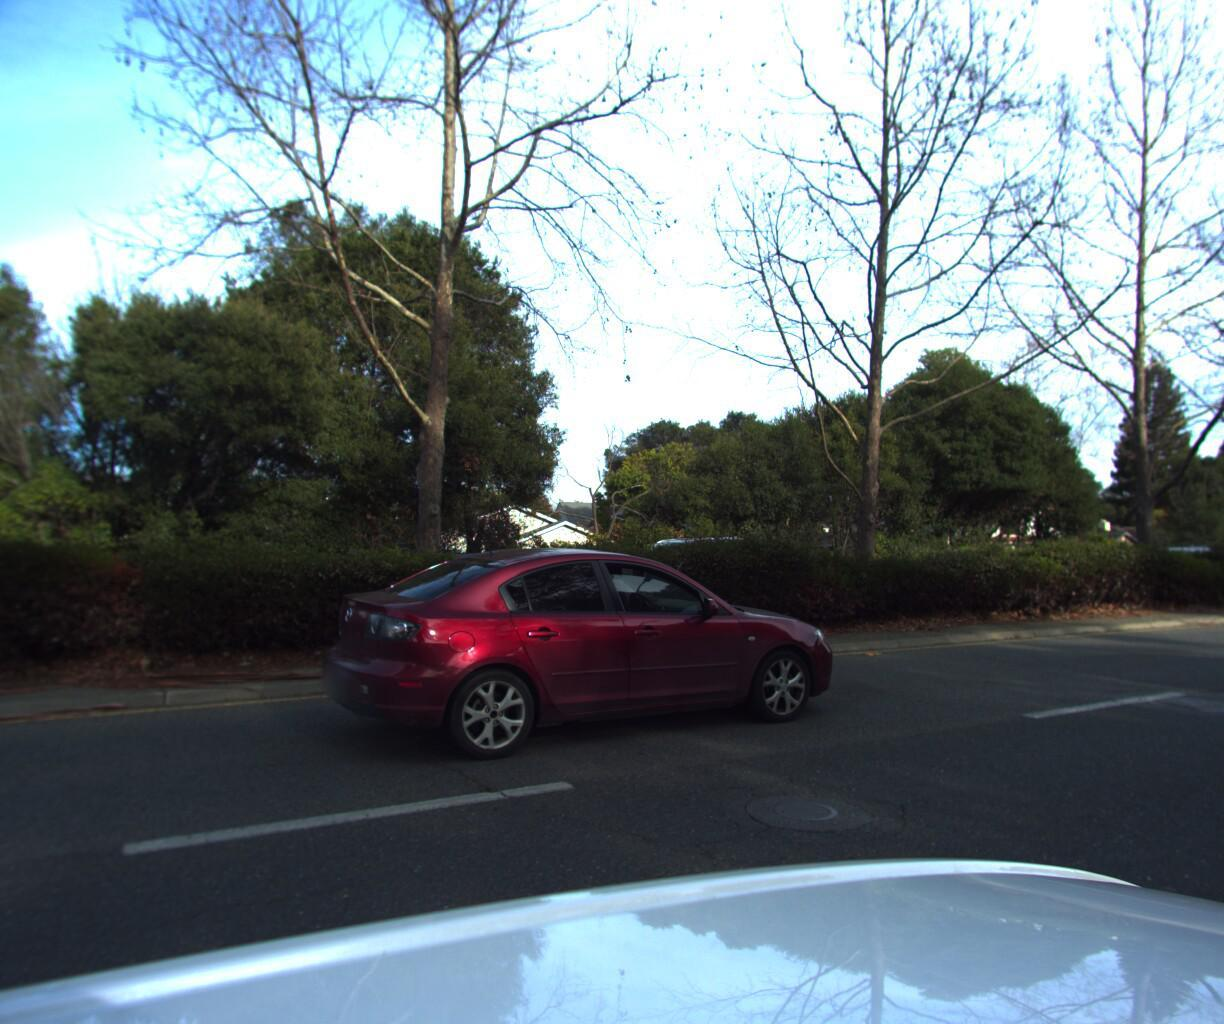car: (314, 539, 852, 774), (563, 525, 793, 611)
